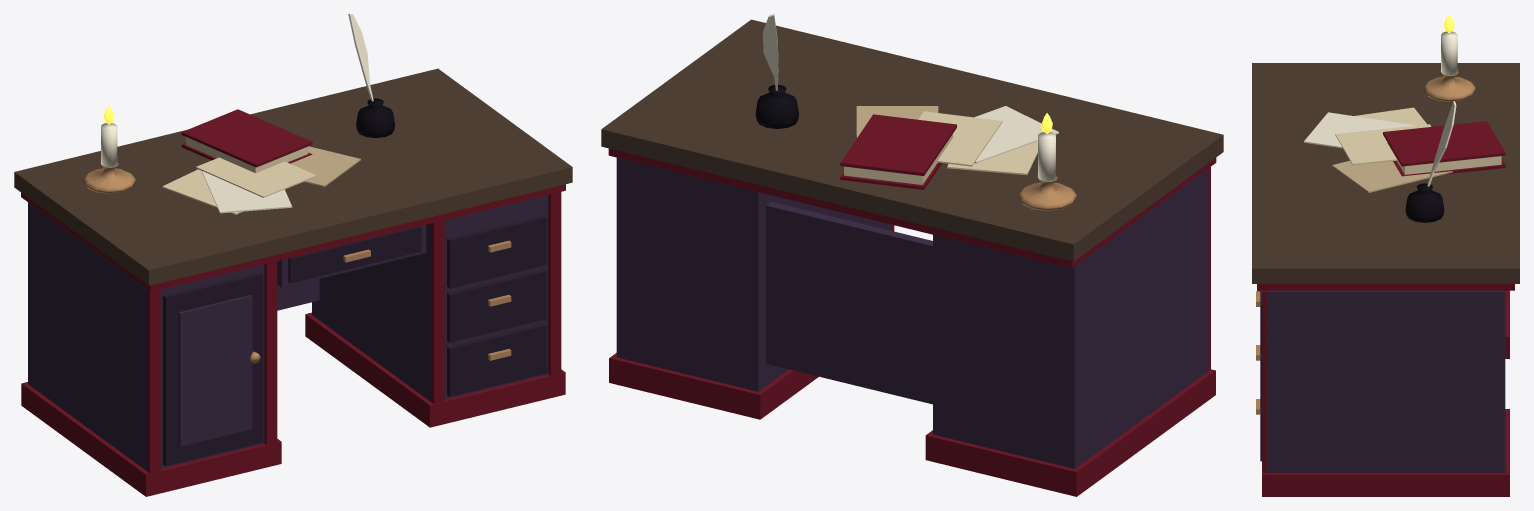
The model's file is desk.glb.
The picture shows the model from 3 angles, left to right: view 1: azimuth 30°, elevation 25°; view 2: azimuth 150°, elevation 25°; view 3: azimuth 270°, elevation 25°; orthographic projection. The views are drawn at different scales.
Parts seen in each view (by area): view 1: desk; view 2: desk; view 3: desk.
Boxes of the visible parts, <box> form: desk: <box>14,14,572,496</box>; desk: <box>601,14,1223,496</box>; desk: <box>1252,14,1519,496</box>.
Size of the model in its own units: 1 by 0.7651 by 0.55.
